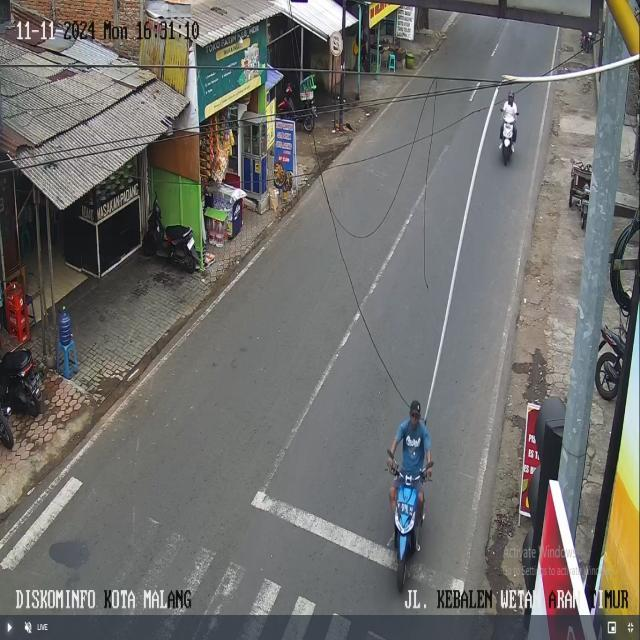Helmet: (508, 91, 514, 99)
Number Plate: (187, 238, 194, 248)
